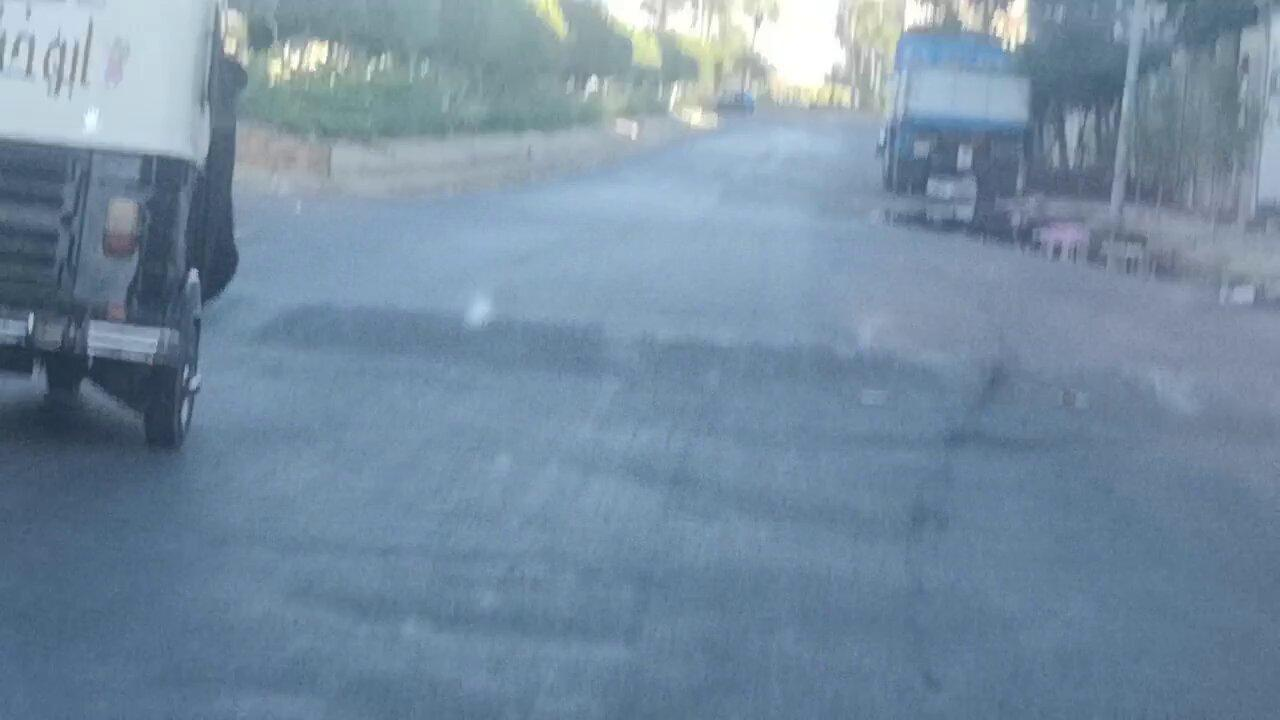Bump: (243, 296, 1280, 438)
